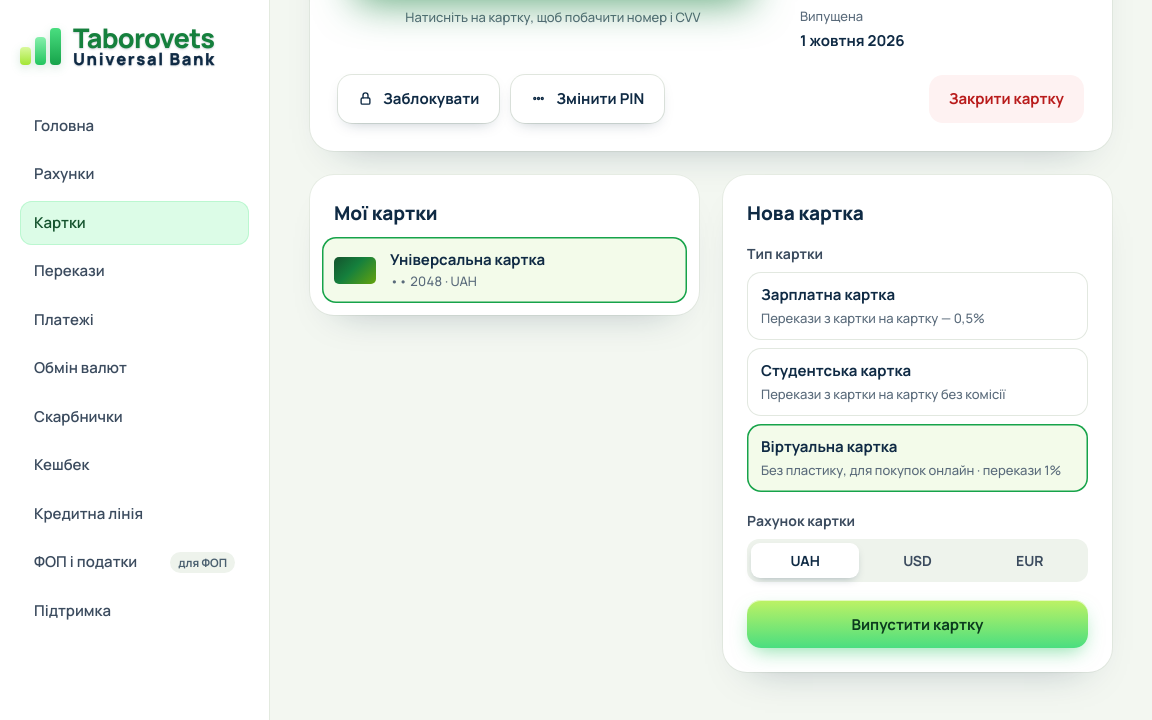
Test: CardsPage › issues a new card on the chosen account and opens it
(page scrolled)
What coordinates should you click on to do the following:
click the radio button labelled "Студентська картка Перекази з картки на картку без комісії"
I would click on:
 (918, 382)
Its box is [747,348,1088,416].
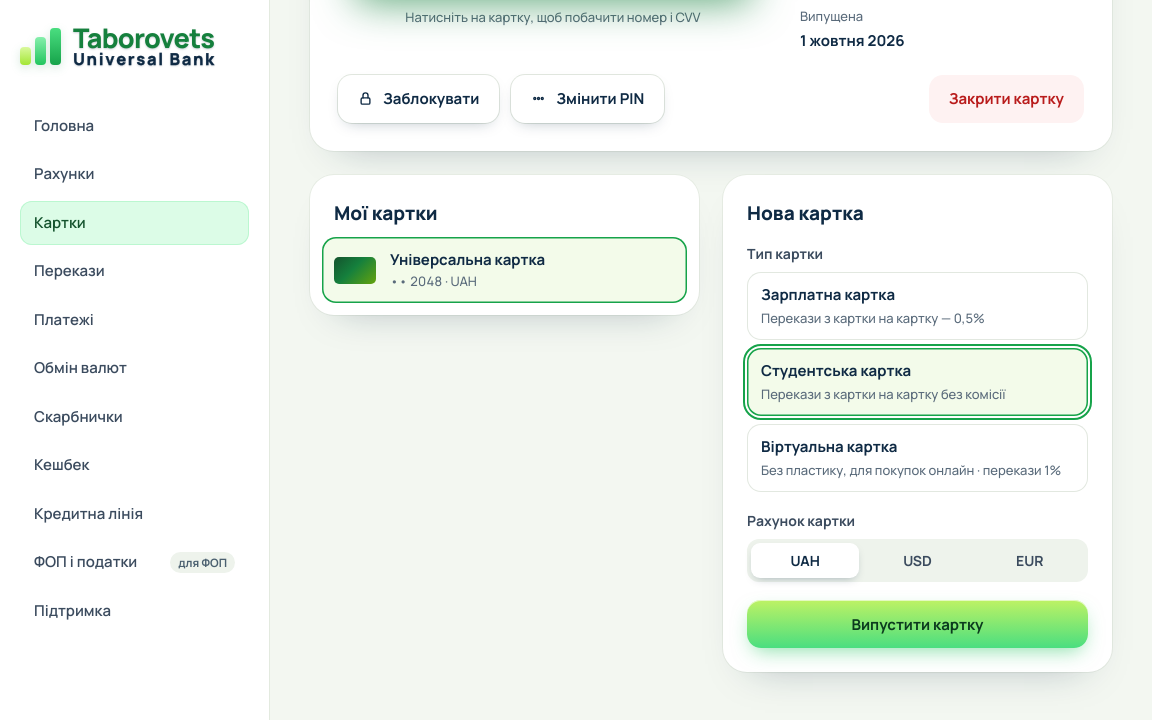
What coordinates should you click on to do the following:
click the radio button labelled "USD"
I would click on:
 (918, 561)
Its box is [903,551,932,570].
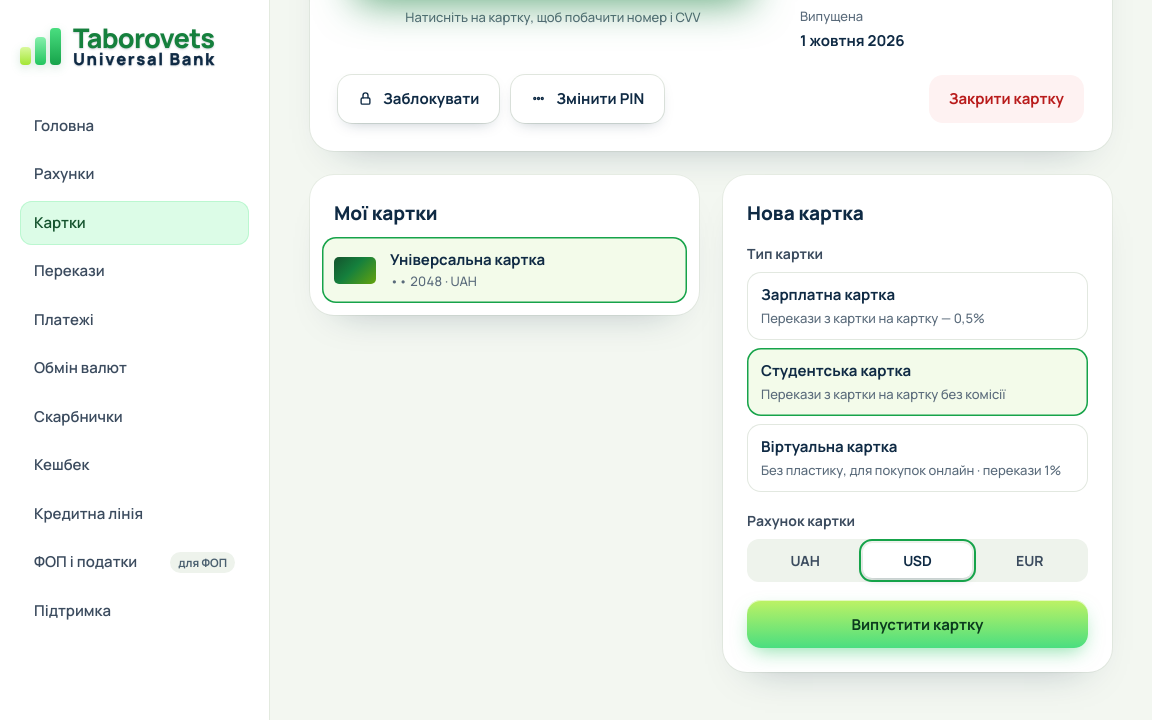
What coordinates should you click on to do the following:
click the button "Випустити картку"
I would click on:
 (918, 624)
Its box is [747,600,1088,648].
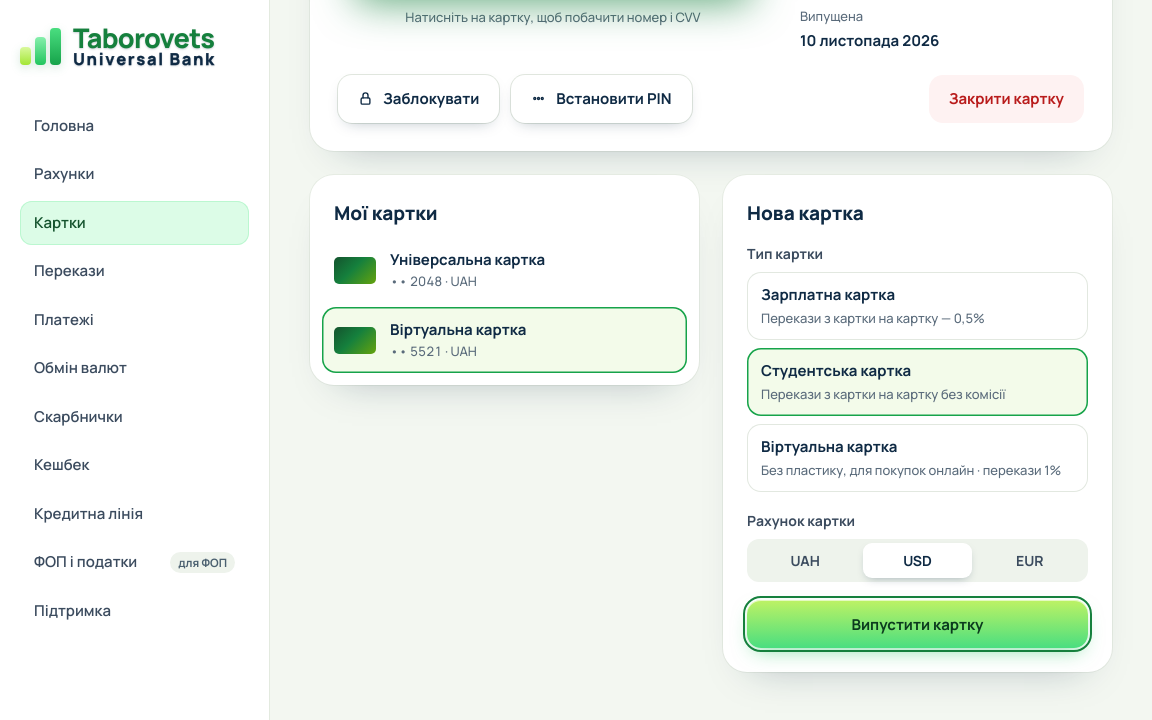
Expected: the button "Віртуальна картка •• 5521 · UAH" is shown, [322,307,687,373]
